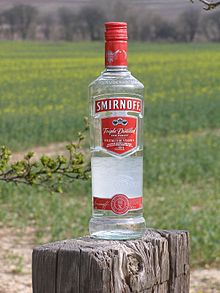Smirnoff: (85, 19, 150, 243)
